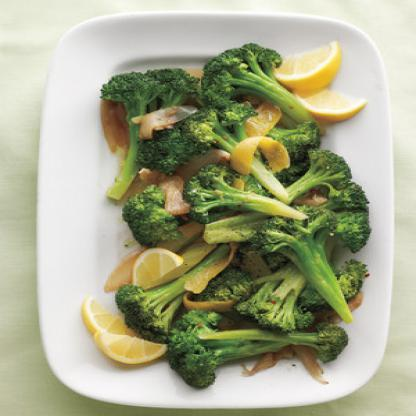broccoli: (97, 44, 372, 388)
